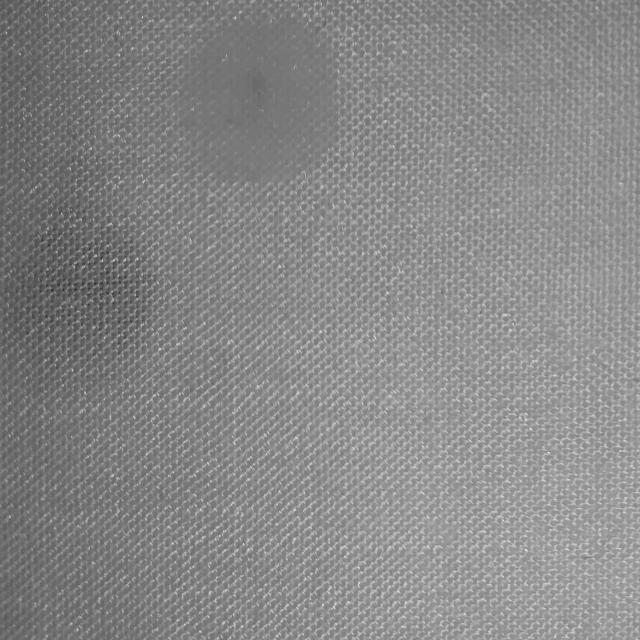Stain: (177, 10, 337, 184)
